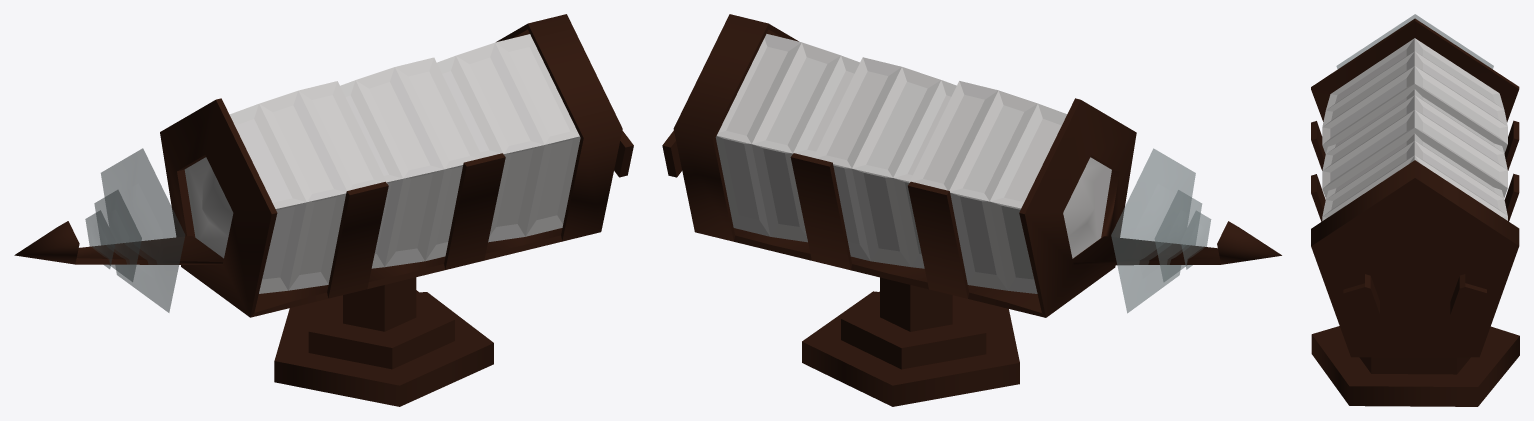
File: Laser.FBX
3 renders of one model, left to right at view 1: azimuth 30°, elevation 25°; view 2: azimuth 150°, elevation 25°; view 3: azimuth 270°, elevation 25°, orthographic. The views are drawn at different scales.
Parts seen in each view (by area): view 1: Body, Body Segment002, Base, Body Segment, Body Segment001, Cone, Lens, Lens001, Lens002; view 2: Body, Body Segment002, Base, Body Segment, Body Segment001, Cone, Lens, Lens001, Lens002; view 3: Body, Base, Body Segment002, Body Segment001, Body Segment, Cone, Lens.
Boxes of the visible parts, x1,y1,x2,y2 form: Body: (250,14,633,317); Body Segment002: (184,81,387,293); Base: (274,277,493,406); Body Segment: (437,34,580,242); Body Segment001: (340,57,482,268); Cone: (14,98,277,317); Lens: (101,148,185,312); Lens001: (94,190,141,281); Lens002: (85,210,115,268); Body: (662,14,1045,317); Body Segment002: (909,81,1111,293); Base: (802,277,1019,406); Body Segment: (715,34,859,242); Body Segment001: (813,57,956,268); Cone: (1019,98,1281,317); Lens: (1111,148,1195,313); Lens001: (1154,190,1201,281); Lens002: (1181,210,1211,269); Body: (1311,120,1519,357); Base: (1311,326,1519,406); Body Segment002: (1322,38,1507,153); Body Segment001: (1322,89,1507,198); Body Segment: (1322,133,1507,220); Cone: (1311,18,1519,122); Lens: (1336,14,1493,68).
Size of the model in its own units: 112 by 55.03 by 37.55.
